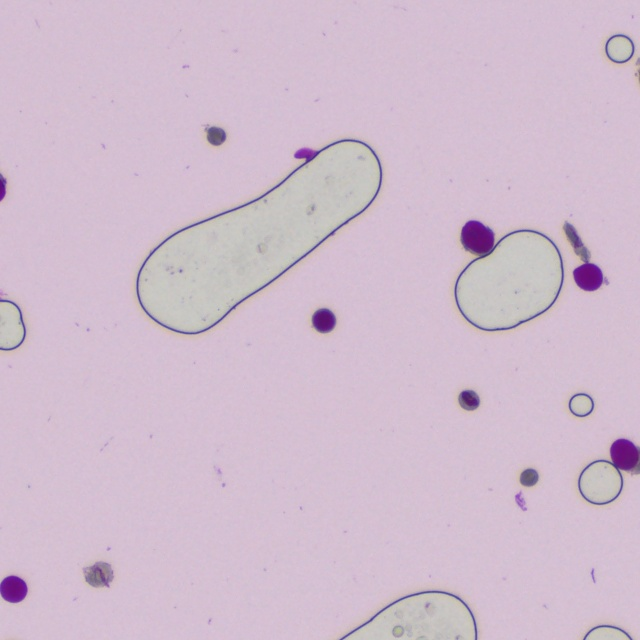intermediate: (84, 562, 112, 586), (459, 390, 479, 409)
non_viable: (206, 127, 225, 145), (520, 468, 538, 486)
viable: (462, 222, 492, 252), (611, 440, 638, 469), (0, 576, 26, 602), (574, 264, 601, 289), (312, 309, 335, 332)
